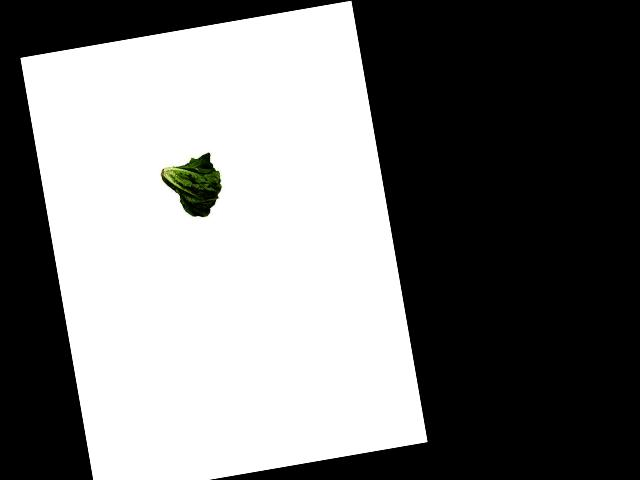lettuce: (155, 149, 228, 224)
